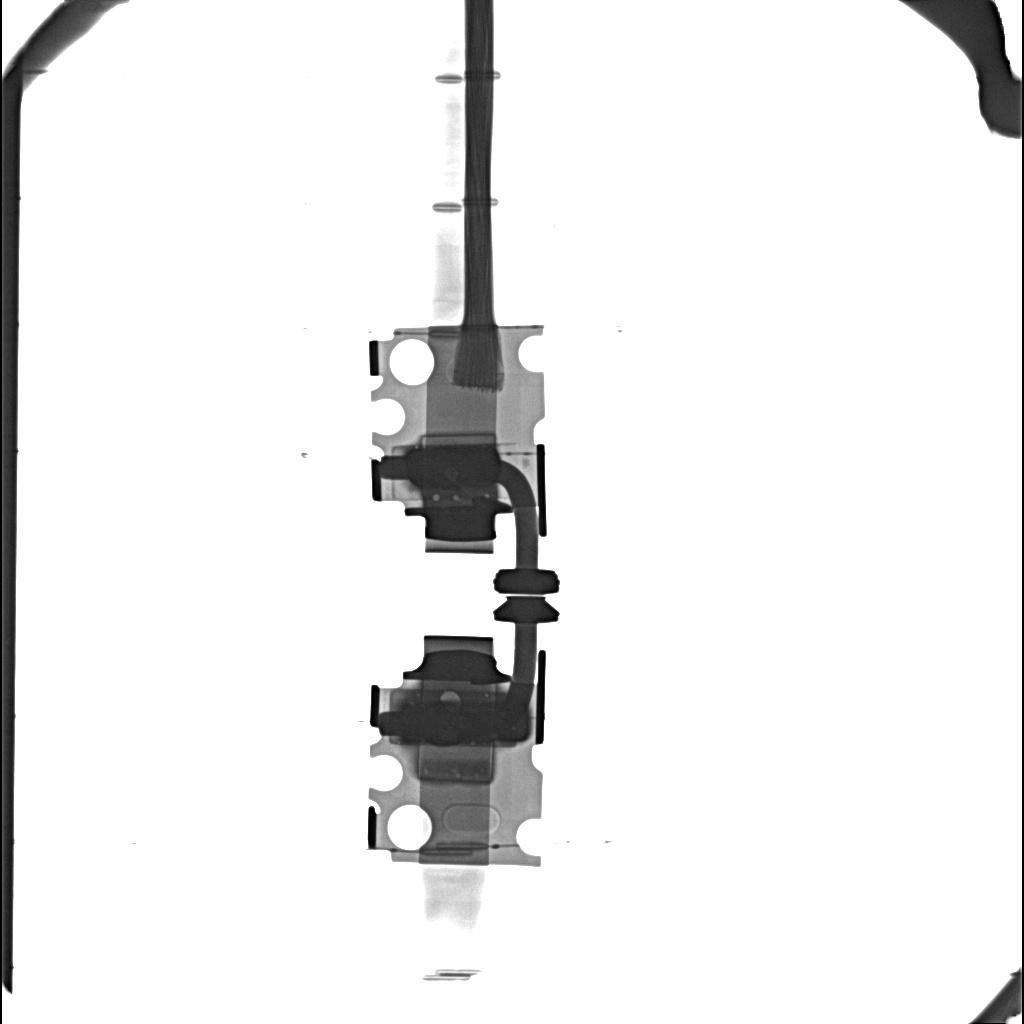PX: (416, 746, 495, 785), (419, 432, 497, 445)
QP: (439, 691, 461, 701), (434, 495, 440, 501)
SX: (403, 699, 530, 746), (407, 444, 499, 490)
